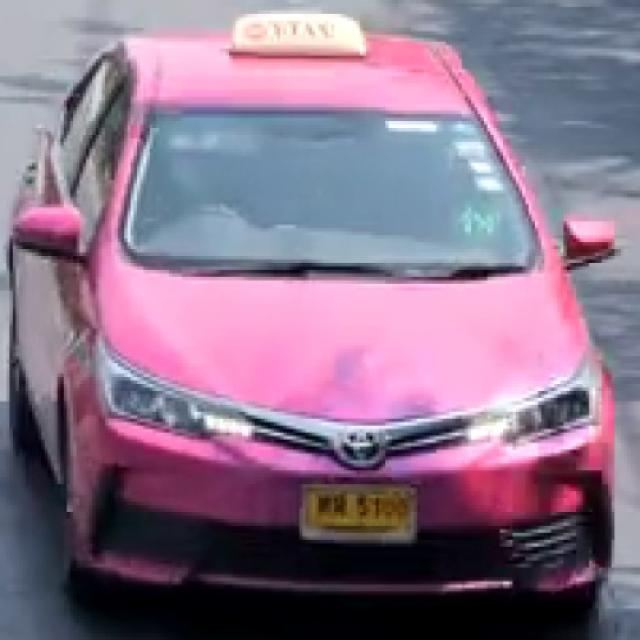plate: (304, 484, 413, 536)
